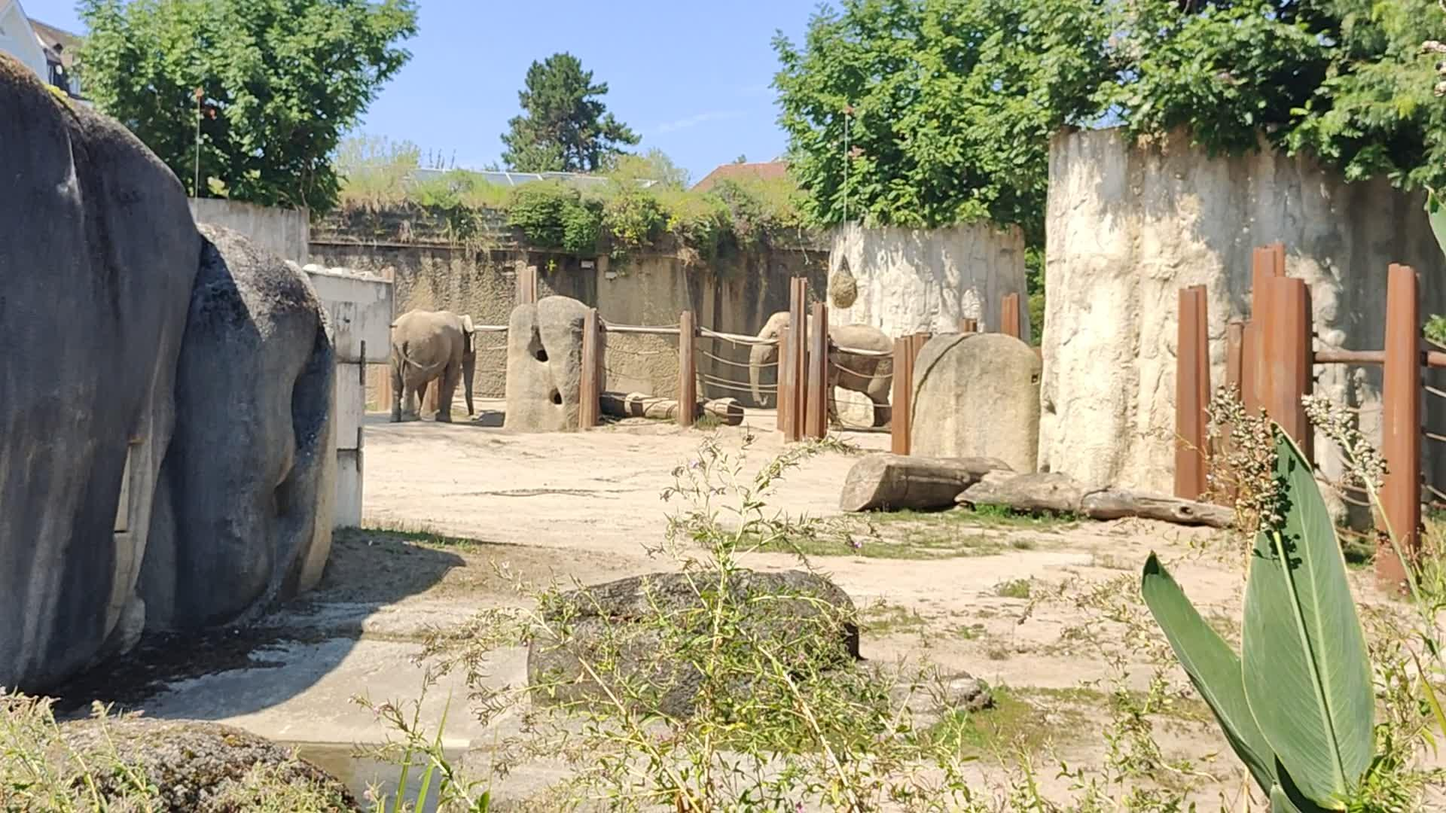raccoon: (749, 311, 894, 431), (390, 309, 476, 423)
